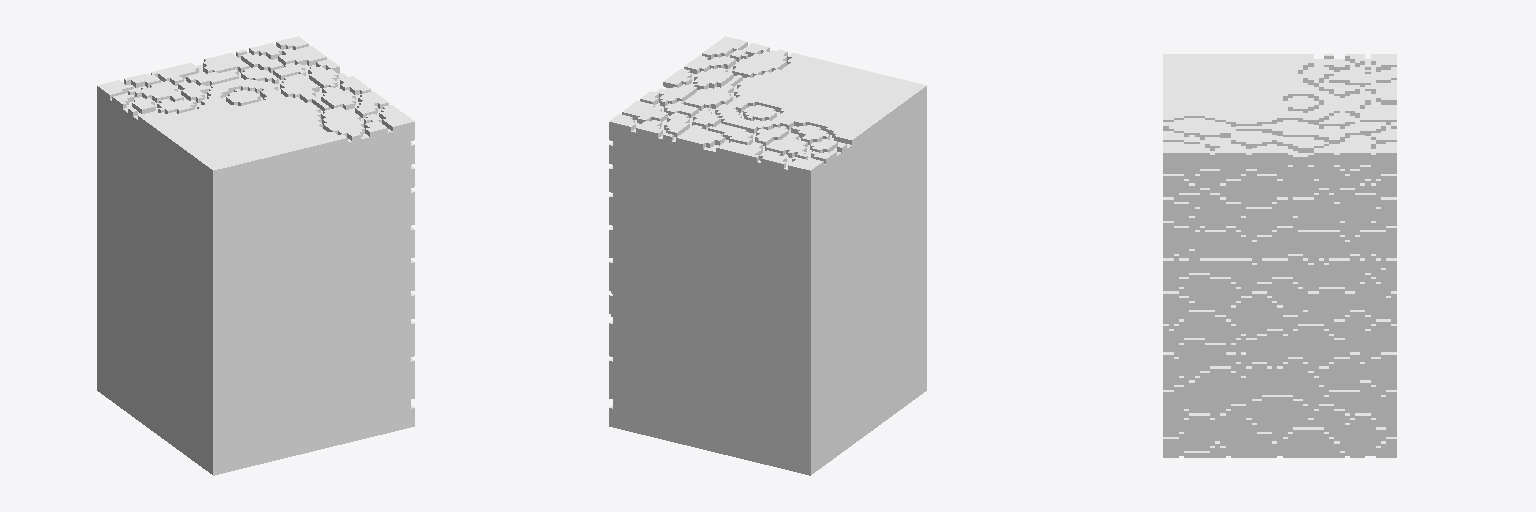
The model's file is ObsidianCorner.obj.
3 views of the same model, side by side, from view 1: azimuth 30°, elevation 25°; view 2: azimuth 150°, elevation 25°; view 3: azimuth 270°, elevation 25° (orthographic).
Bounding box in the file's own units: 45 × 65 × 45.